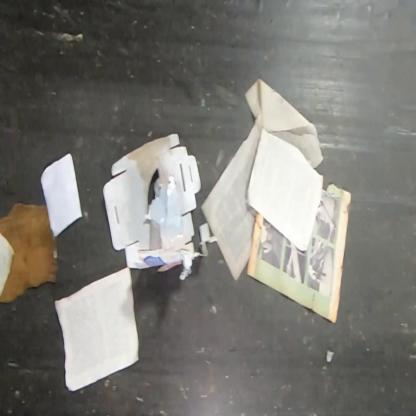cardboard: (103, 132, 209, 280), (0, 201, 59, 304)
soft_plastic: (144, 175, 184, 238)
